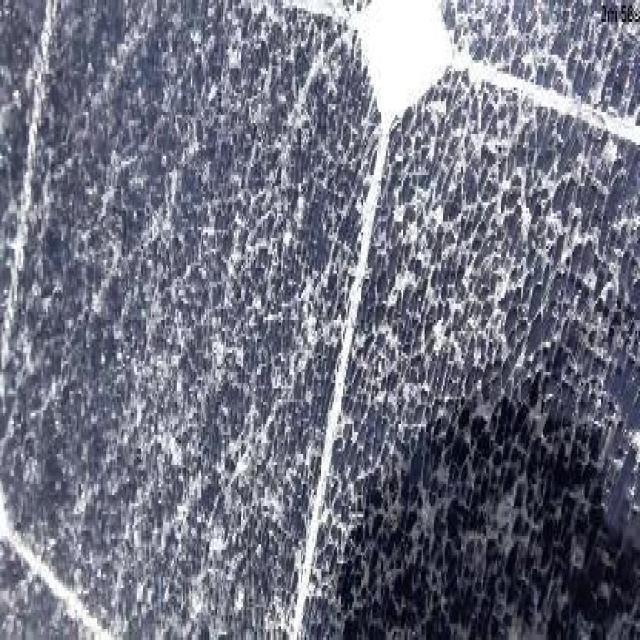cracked: (1, 2, 640, 637)
